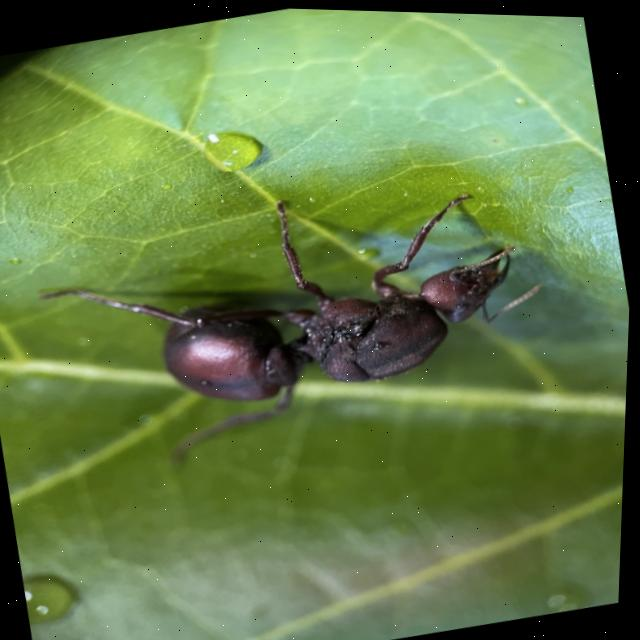Alive-Female-Dealate: (24, 145, 572, 499)
